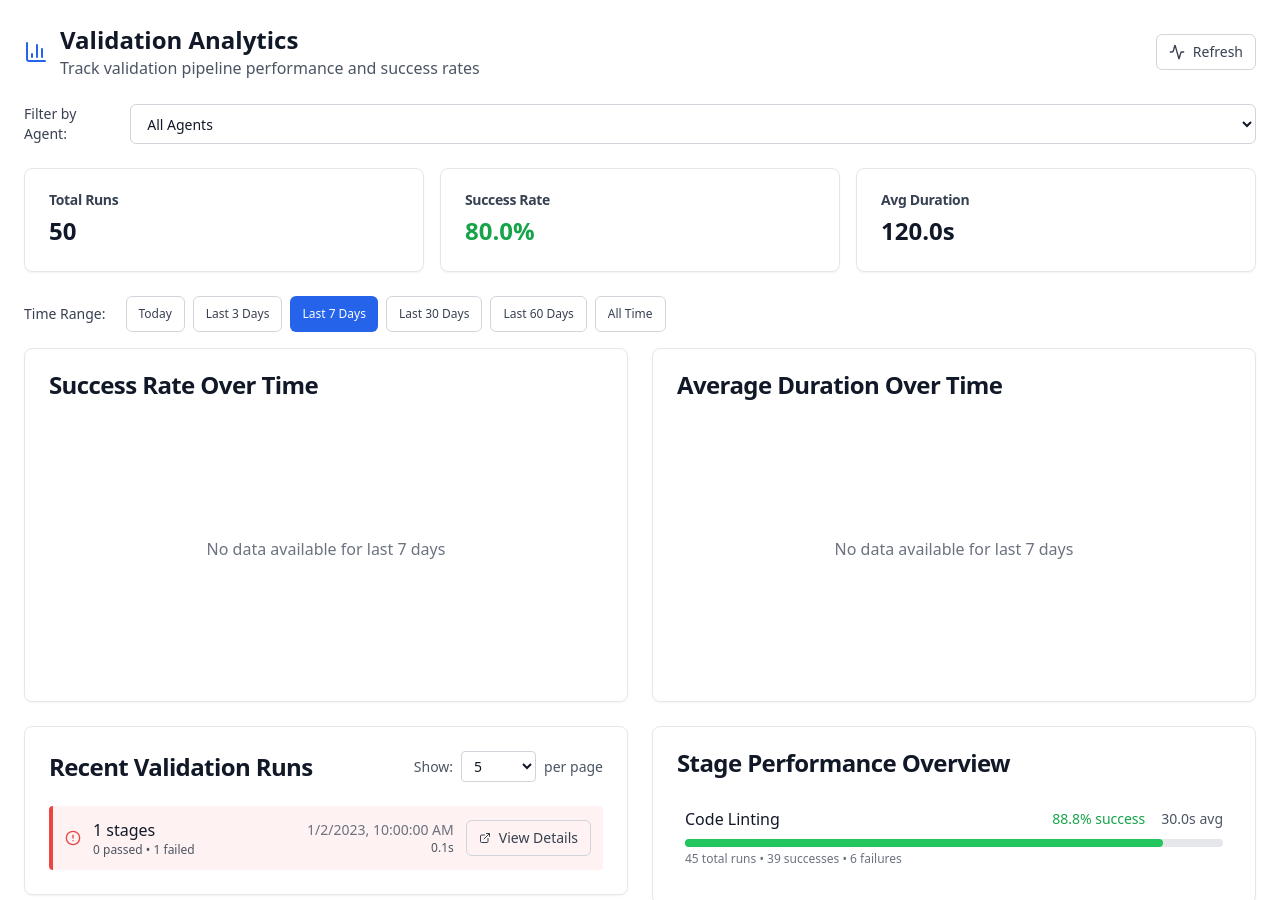
Scenario: Analytics Component › displays stage success and failure indicators correctly
Expected: the text "1 stages" is shown, [93,819,155,841]
What coordinates should you click on to do the following:
click the text "1 stages"
I would click on:
 (144, 838)
Its box is [93,818,195,858].
(page scrolled)
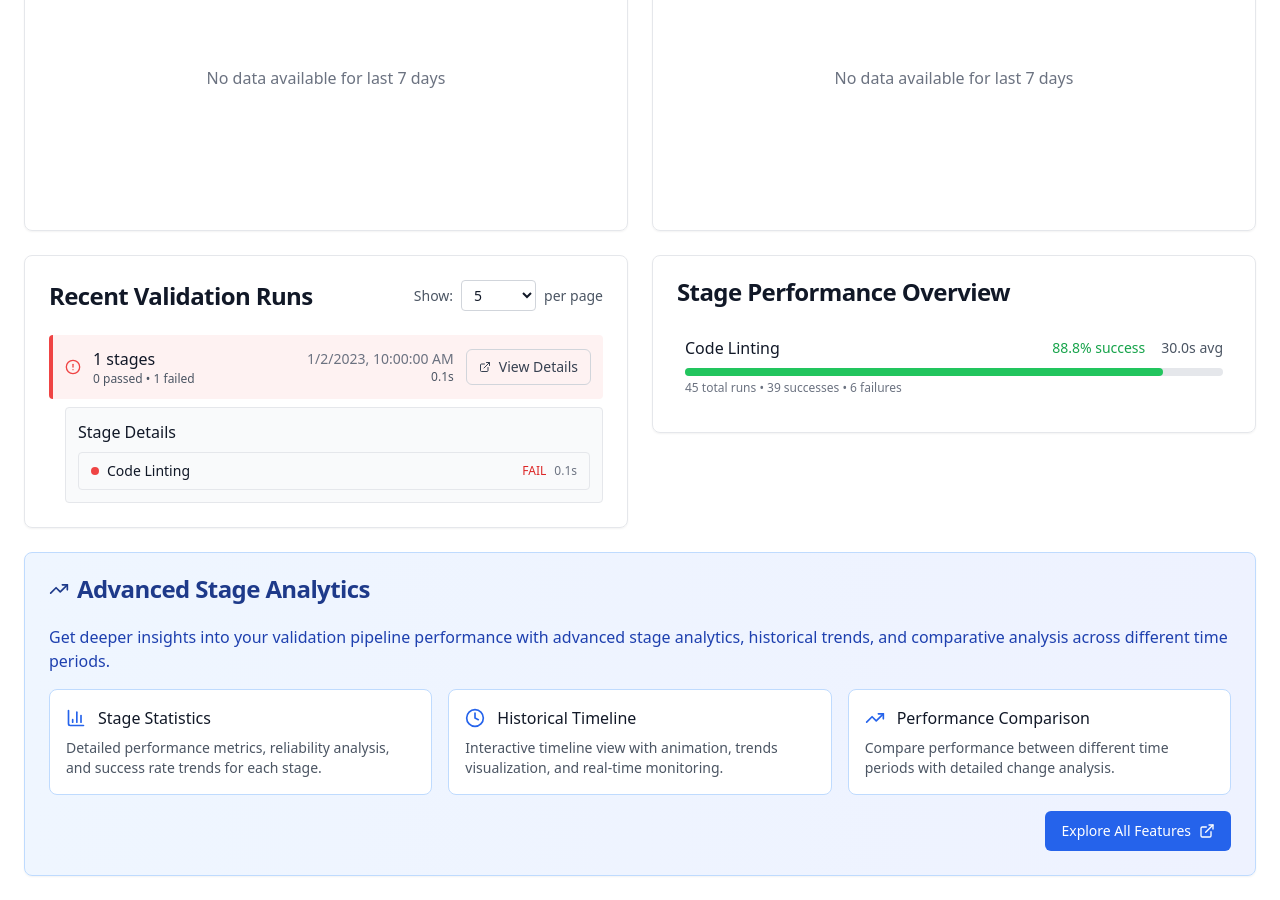
Result: the text "FAIL" is shown at [522,463,546,479]
